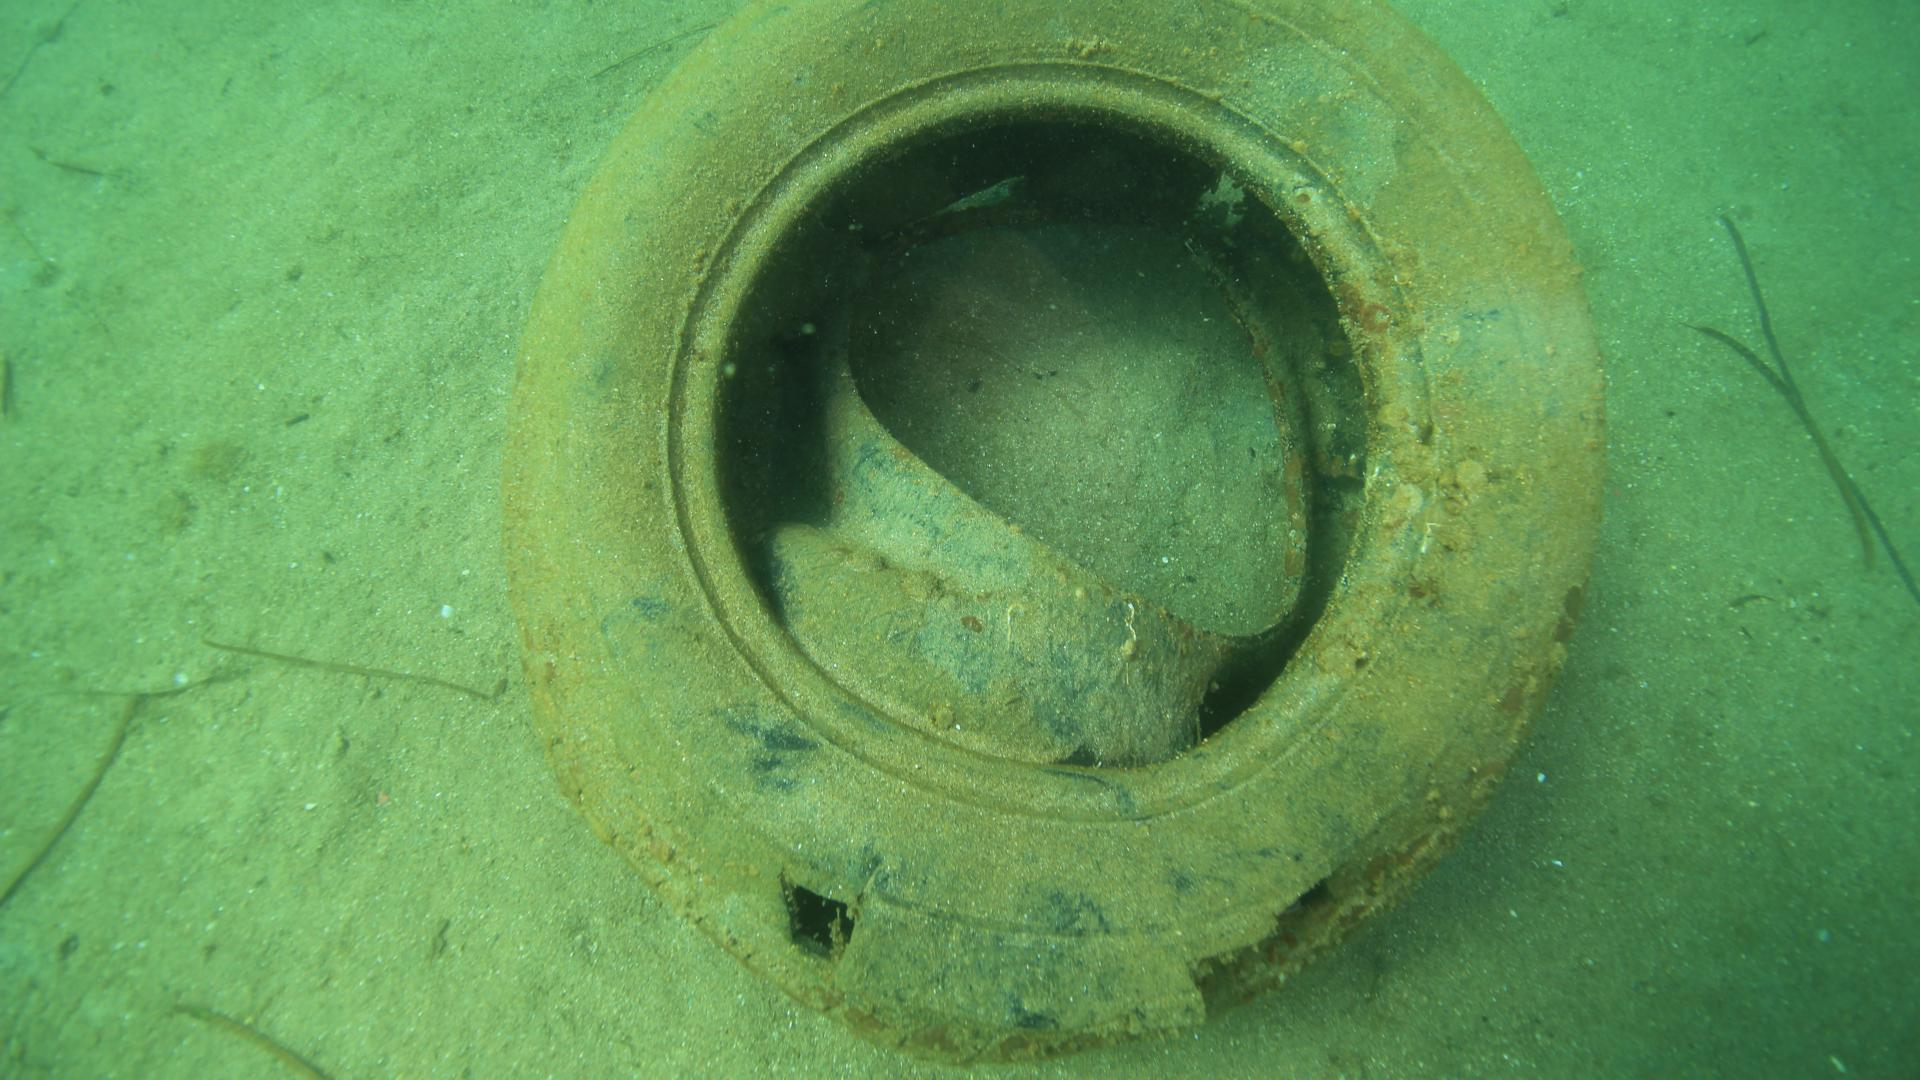tire: (496, 0, 1614, 1058)
